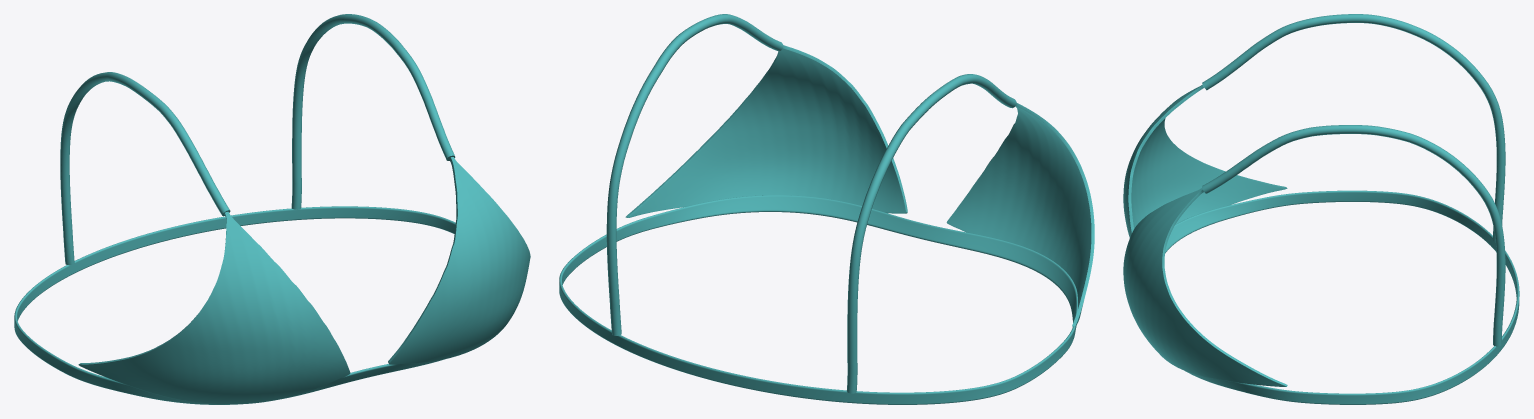
Rendered from Feminine-triangle-top.glb.
3 views of the same model, side by side, from view 1: azimuth 30°, elevation 25°; view 2: azimuth 150°, elevation 25°; view 3: azimuth 270°, elevation 25° (orthographic). The views are drawn at different scales.
Parts seen in each view (by area): view 1: Clothing / clean triangle214 -1.001, Clothing / clean triangle214 1.001, Triangle / flush back band214.001, Triangle / seated shoulder strap214 1.001, Triangle / seated shoulder strap214 -1.001; view 2: Clothing / clean triangle214 1.001, Triangle / flush back band214.001, Clothing / clean triangle214 -1.001, Triangle / seated shoulder strap214 1.001, Triangle / seated shoulder strap214 -1.001; view 3: Clothing / clean triangle214 1.001, Triangle / flush back band214.001, Clothing / clean triangle214 -1.001, Triangle / seated shoulder strap214 1.001, Triangle / seated shoulder strap214 -1.001.
Boxes of the visible parts, x1,y1,x2,y2 form: Clothing / clean triangle214 -1.001: [78, 211, 350, 404]; Clothing / clean triangle214 1.001: [388, 157, 530, 364]; Triangle / flush back band214.001: [14, 206, 455, 404]; Triangle / seated shoulder strap214 1.001: [291, 14, 455, 209]; Triangle / seated shoulder strap214 -1.001: [60, 72, 230, 265]; Clothing / clean triangle214 1.001: [625, 45, 907, 217]; Triangle / flush back band214.001: [559, 195, 1077, 404]; Clothing / clean triangle214 -1.001: [946, 103, 1094, 326]; Triangle / seated shoulder strap214 1.001: [606, 14, 783, 335]; Triangle / seated shoulder strap214 -1.001: [846, 74, 1016, 393]; Clothing / clean triangle214 1.001: [1123, 188, 1287, 386]; Triangle / flush back band214.001: [1165, 190, 1519, 404]; Clothing / clean triangle214 -1.001: [1123, 85, 1287, 237]; Triangle / seated shoulder strap214 1.001: [1202, 125, 1505, 346]; Triangle / seated shoulder strap214 -1.001: [1202, 14, 1505, 241].
Bounding box in the file's own units: 0.5542 × 0.2956 × 0.4544.
